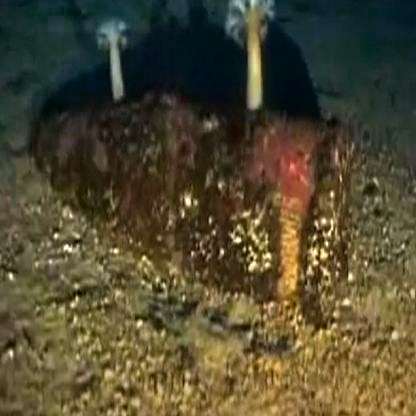gbottle: (27, 104, 368, 351)
